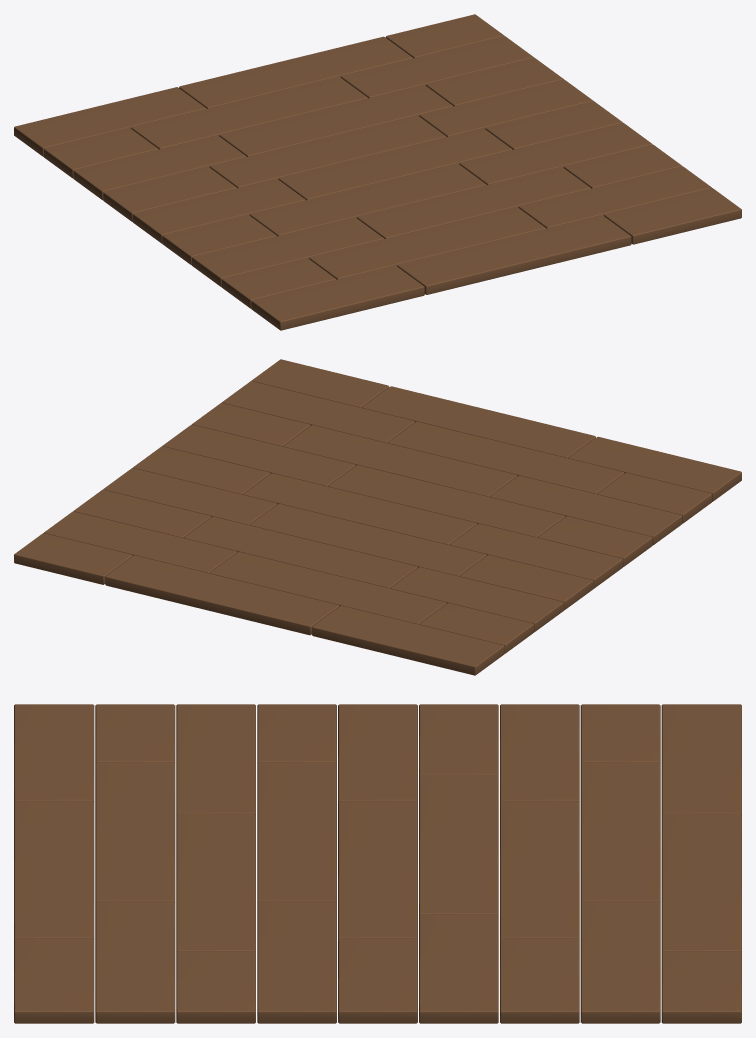
File: Floor_8.glb
3 views of the same model, one above another, from view 1: azimuth 30°, elevation 25°; view 2: azimuth 150°, elevation 25°; view 3: azimuth 270°, elevation 25° (orthographic). The views are drawn at different scales.
Visible parts, largest first — view 1: Floor_8; view 2: Floor_8; view 3: Floor_8.
Boxes of the visible parts, left/top/right/bottom form: Floor_8: left=14, top=14, right=741, bottom=330; Floor_8: left=14, top=359, right=741, bottom=675; Floor_8: left=14, top=704, right=741, bottom=1023.
Size of the model in its own units: 5 by 0.1 by 5.
Materials: 1 (1 with a texture image).
